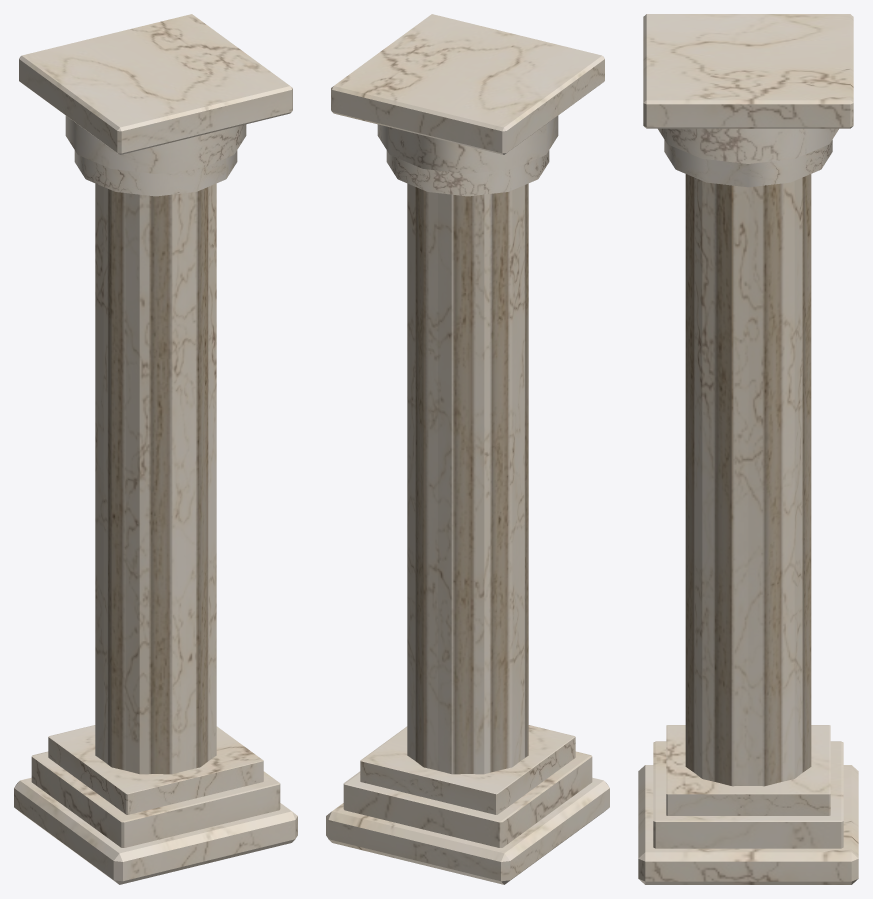
Rendered from Pillar.fbx.
3 views of the same model, side by side, from view 1: azimuth 30°, elevation 25°; view 2: azimuth 150°, elevation 25°; view 3: azimuth 270°, elevation 25° (orthographic). The views are drawn at different scales.
Visible parts, largest first — view 1: Pillar; view 2: Pillar; view 3: Pillar.
Part boxes in pixels (x1,y1,x2,y2): Pillar: (14,14,297,884); Pillar: (326,14,609,884); Pillar: (638,14,858,884).
Size of the model in its own units: 1.1 by 4.32 by 1.1.
